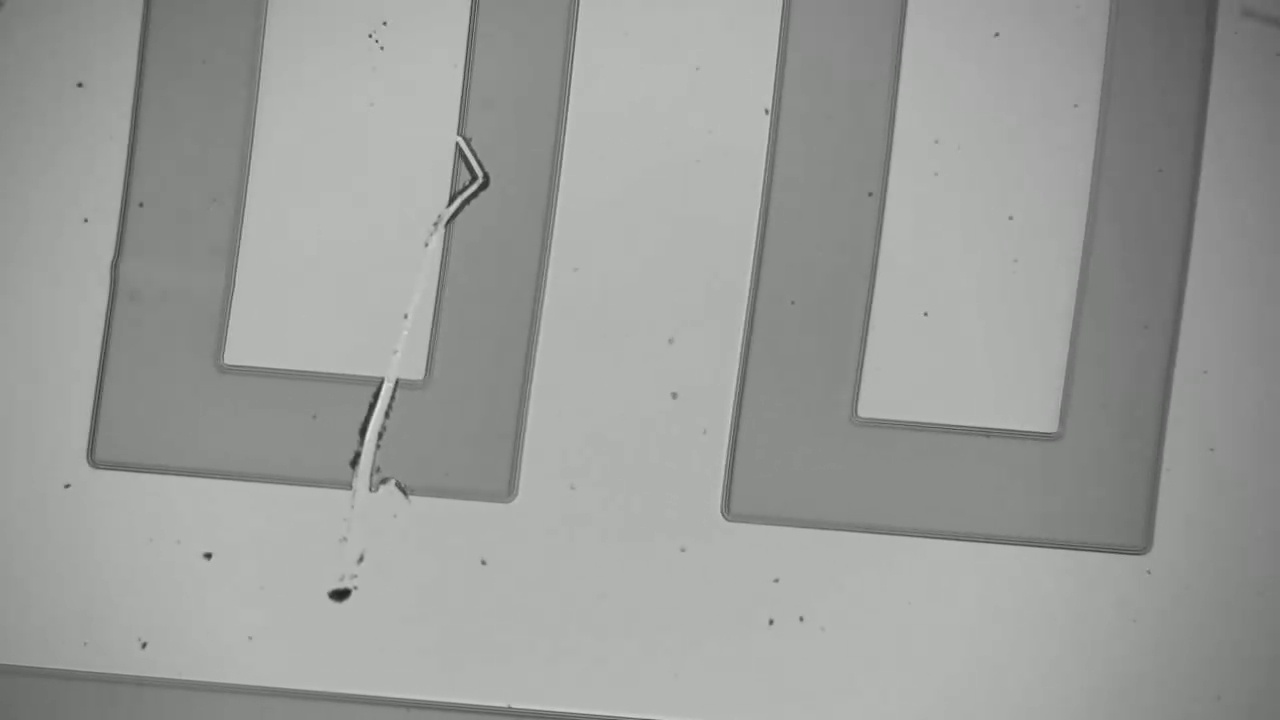Short_circuit: (330, 363, 410, 513)
